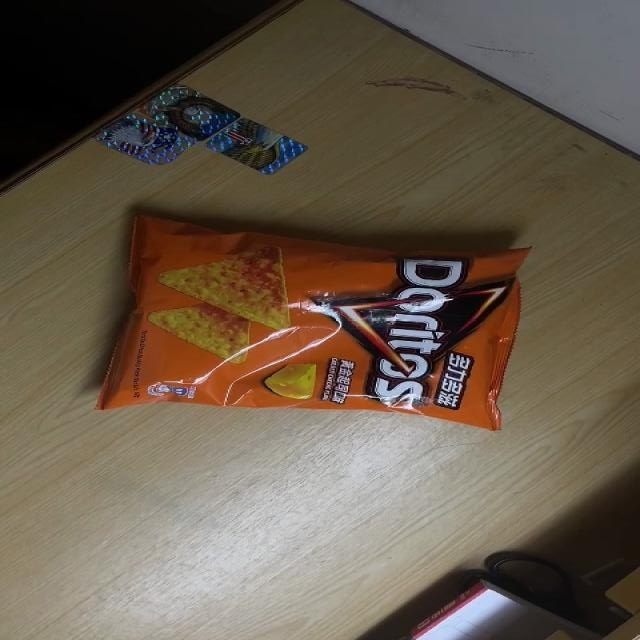Doritos: (93, 211, 531, 430)
